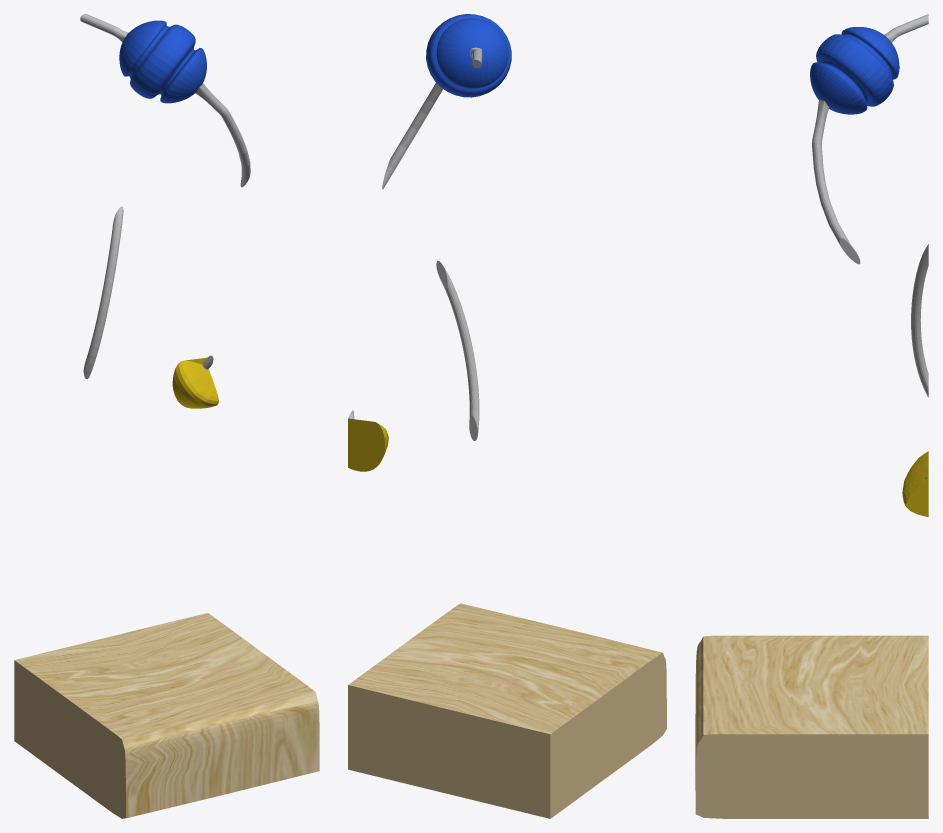
File: 7_Motorikschleife subdiv.fbx
3 views of the same model, side by side, from view 1: azimuth 30°, elevation 25°; view 2: azimuth 150°, elevation 25°; view 3: azimuth 270°, elevation 25° (orthographic). The views are drawn at different scales.
Parts seen in each view (by area): view 1: Cube.007; view 2: Cube.007; view 3: Cube.007.
Boxes of the visible parts, x1,y1,x2,y2 form: Cube.007: (14, 14, 319, 818); Cube.007: (348, 14, 666, 818); Cube.007: (695, 14, 928, 818).
Bounding box in the file's own units: 500 × 1762 × 499.
